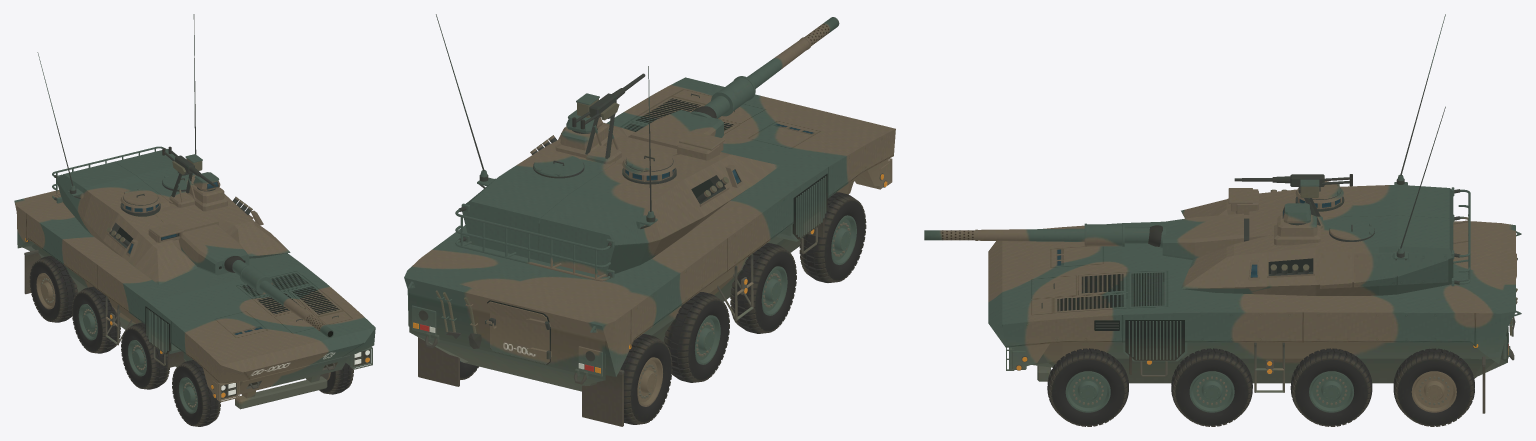
Rendered from type16.glb.
3 renders of one model, left to right at view 1: azimuth 30°, elevation 25°; view 2: azimuth 150°, elevation 25°; view 3: azimuth 270°, elevation 25°, orthographic. The views are drawn at different scales.
Parts seen in each view (by area): view 1: hull_casting, turret_casting, gun_casting, tyre_4r, tyre_3r, tyre_1r, tyre_2r, tyre_1l; view 2: hull_casting, turret_casting, gun_casting, tyre_3r, tyre_2r, tyre_1r, tyre_4r; view 3: hull_casting, turret_casting, gun_casting, tyre_1l, tyre_3l, tyre_2l, tyre_4l.
Boxes of the visible parts, x1,y1,x2,y2 form: hull_casting: (14,190,375,409); turret_casting: (37,14,290,284); gun_casting: (179,224,333,337); tyre_4r: (29,256,77,322); tyre_3r: (72,286,120,353); tyre_1r: (172,360,220,426); tyre_2r: (121,322,169,389); tyre_1l: (319,363,353,394); hull_casting: (404,77,895,426); turret_casting: (436,14,779,281); gun_casting: (628,17,839,148); tyre_3r: (664,292,729,382); tyre_2r: (730,243,796,333); tyre_1r: (799,192,866,282); tyre_4r: (620,334,672,424); hull_casting: (988,221,1521,413); turret_casting: (1181,14,1470,295); gun_casting: (924,213,1249,259); tyre_1l: (1047,348,1128,426); tyre_3l: (1290,348,1372,426); tyre_2l: (1171,348,1252,426); tyre_4l: (1393,348,1474,426).
Bounding box in the file's own units: 3.02 × 4.92 × 8.2.
3 materials, 3 textured.
